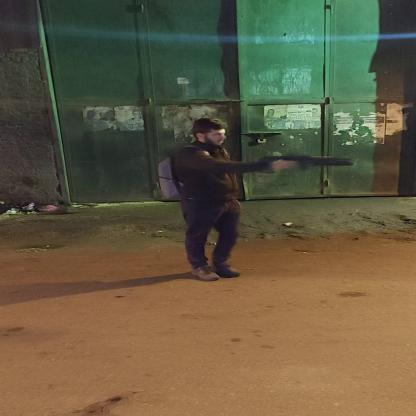long weapon: (250, 148, 366, 174)
